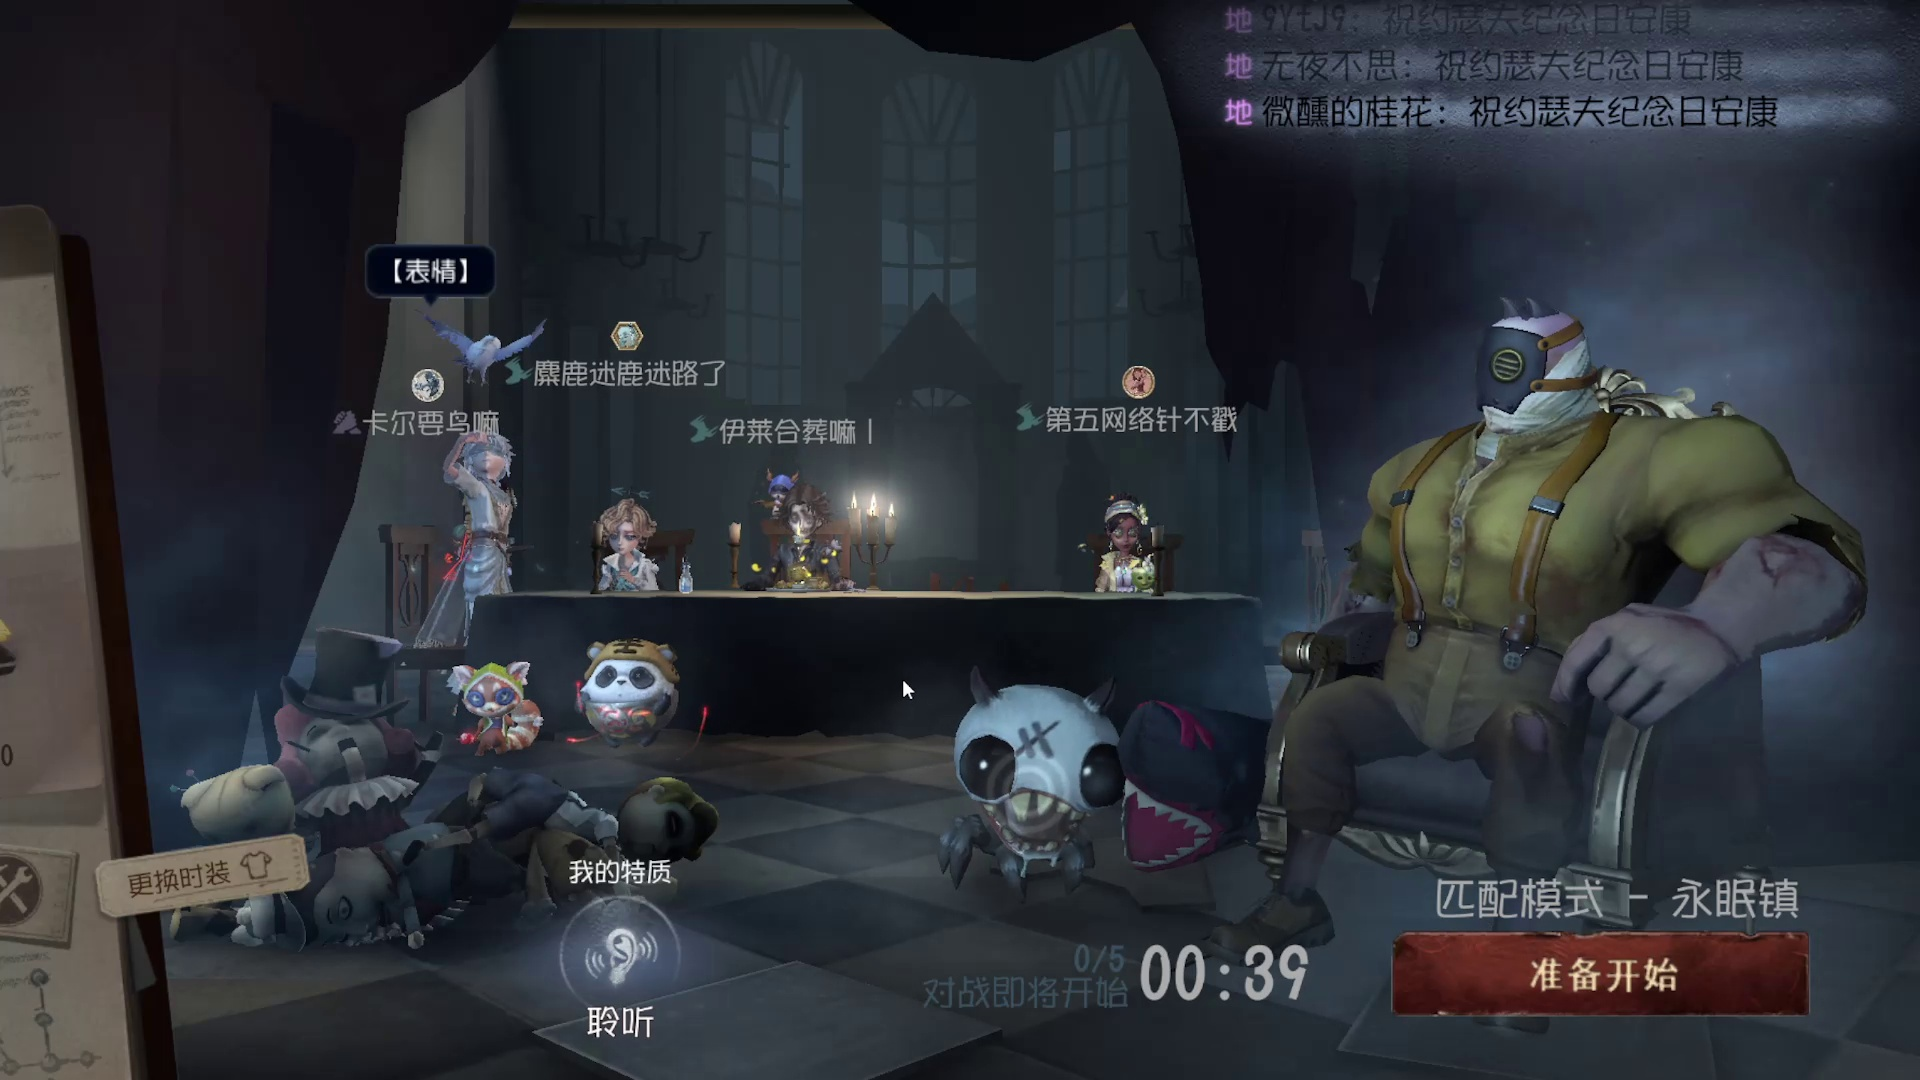准备开始: (1370, 911, 1834, 1040)
